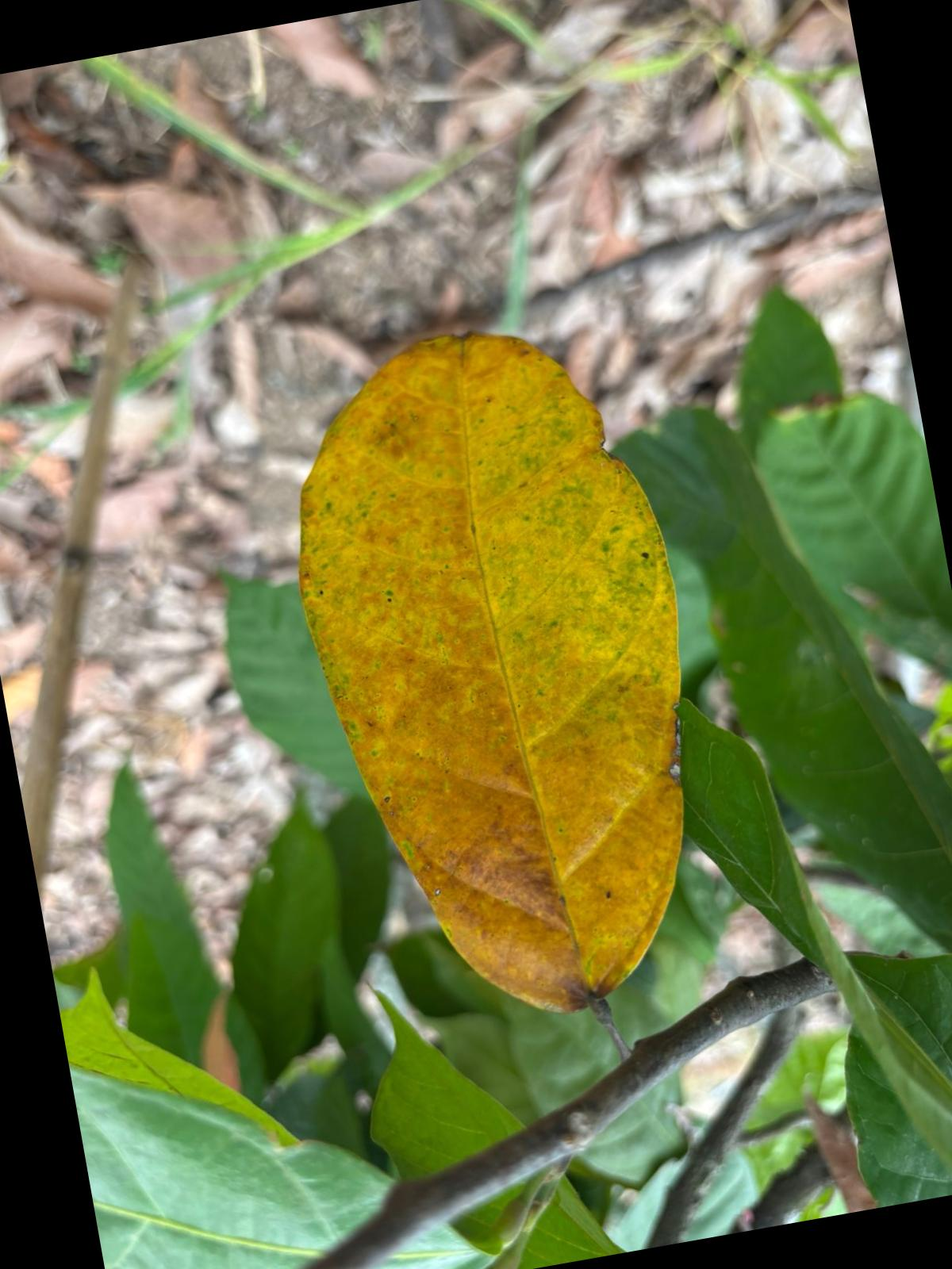Fosforo: (299, 334, 682, 1012)
